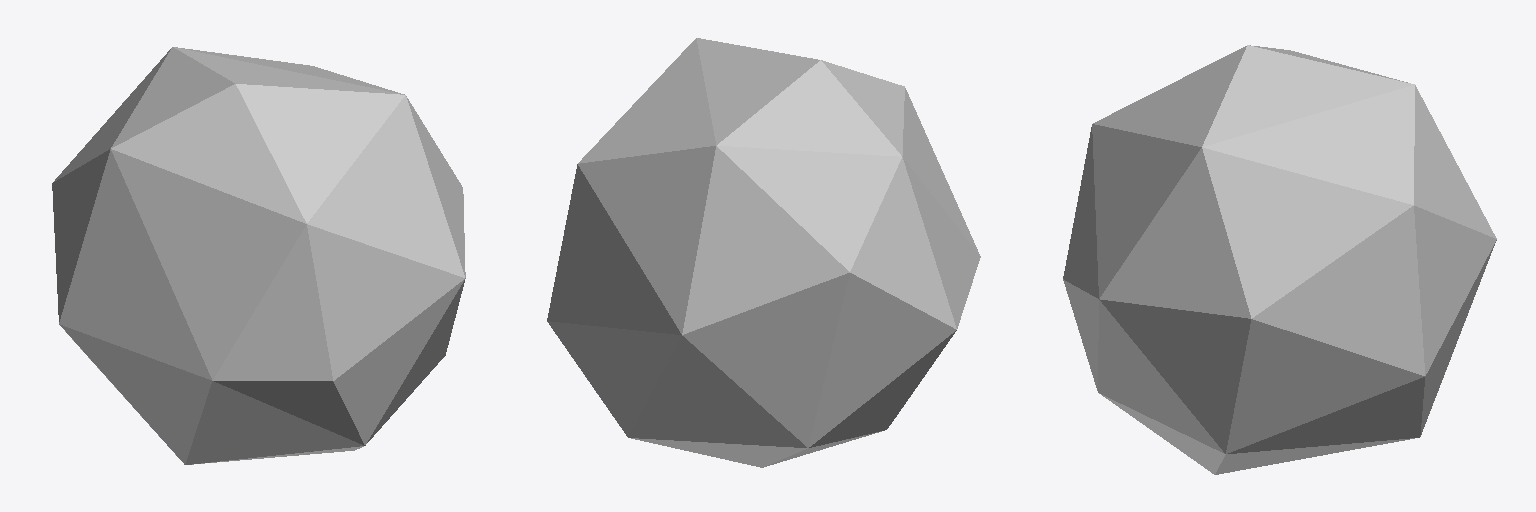
The model's file is lowsphere.obj.
3 views of the same model, side by side, from view 1: azimuth 30°, elevation 25°; view 2: azimuth 150°, elevation 25°; view 3: azimuth 270°, elevation 25° (orthographic).
Parts seen in each view (by area): view 1: Sphere; view 2: Sphere; view 3: Sphere.
Boxes of the visible parts, x1=… form: Sphere: x1=52, y1=47, x2=465, y2=464; Sphere: x1=547, y1=38, x2=980, y2=467; Sphere: x1=1063, y1=45, x2=1496, y2=474.
Size of the model in its own units: 2.83 by 2.7 by 2.75.